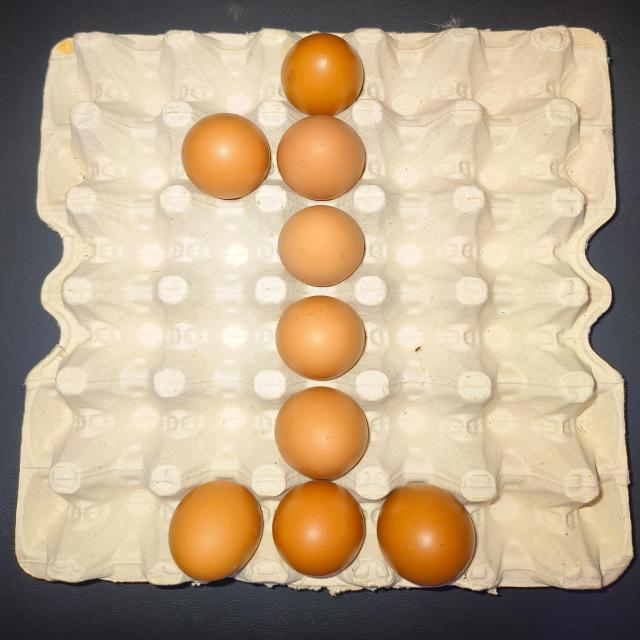Eggs: (386, 475, 476, 585), (163, 482, 260, 584), (272, 391, 377, 480), (176, 118, 270, 208), (274, 111, 361, 199), (276, 489, 364, 575), (280, 204, 366, 290), (284, 35, 368, 116), (279, 305, 364, 383)
